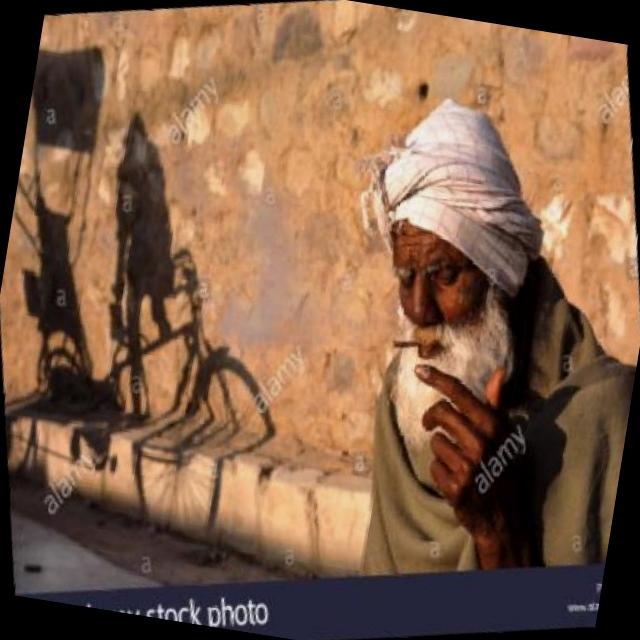cigarette: (388, 330, 424, 354)
